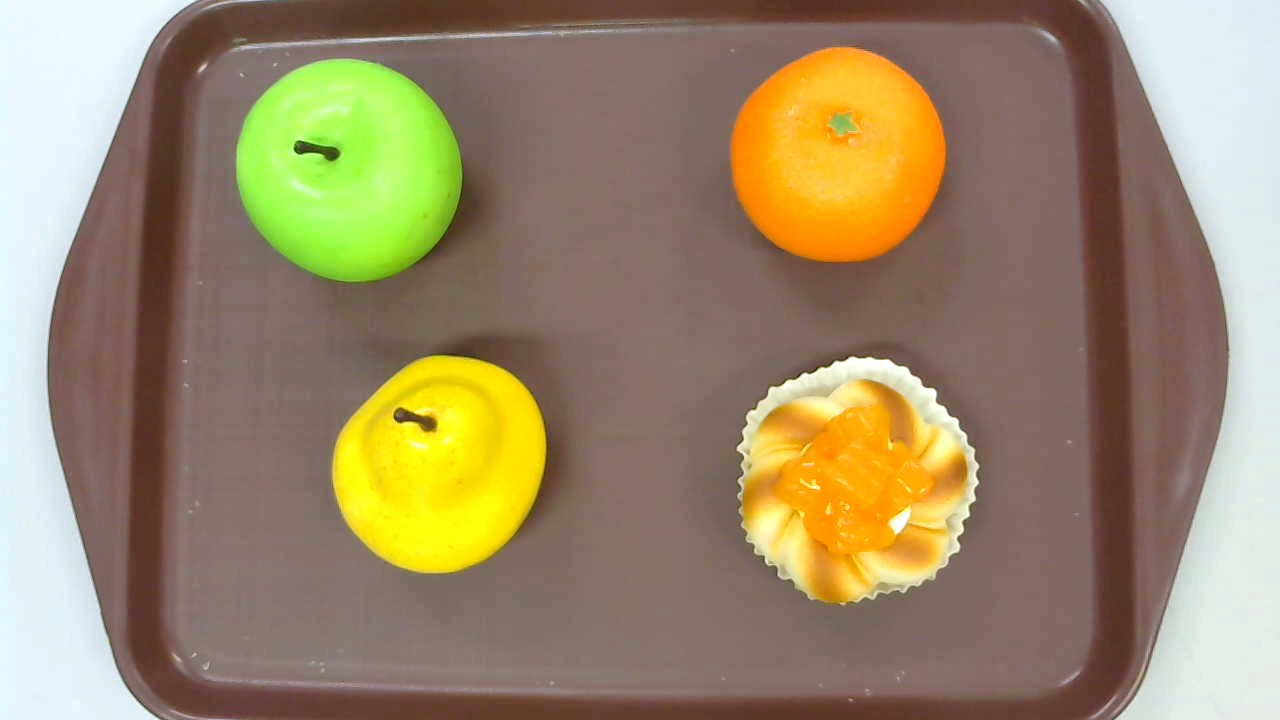green apple: (235, 59, 462, 283)
mango tower: (736, 354, 979, 604)
orange: (728, 46, 945, 261)
yellow pear: (330, 355, 547, 574)
